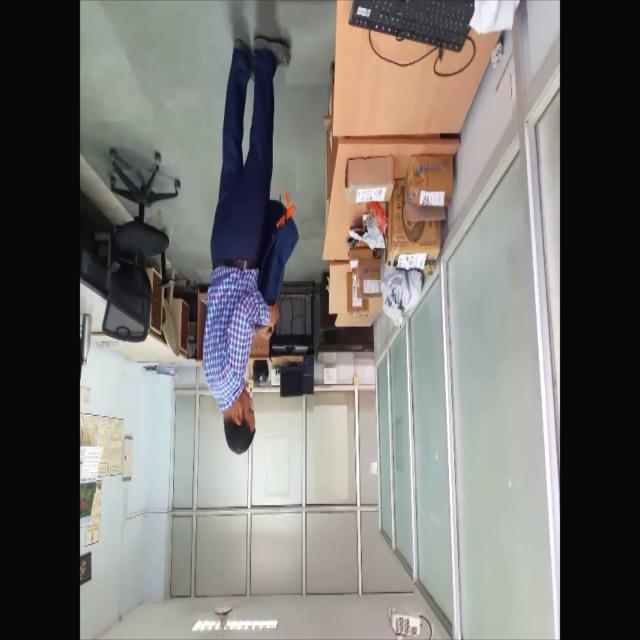shoplifting: (198, 4, 300, 470)
